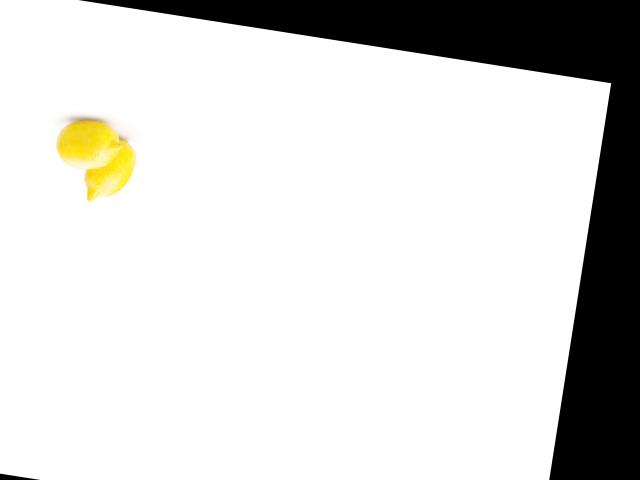lemon: (48, 120, 131, 176)
